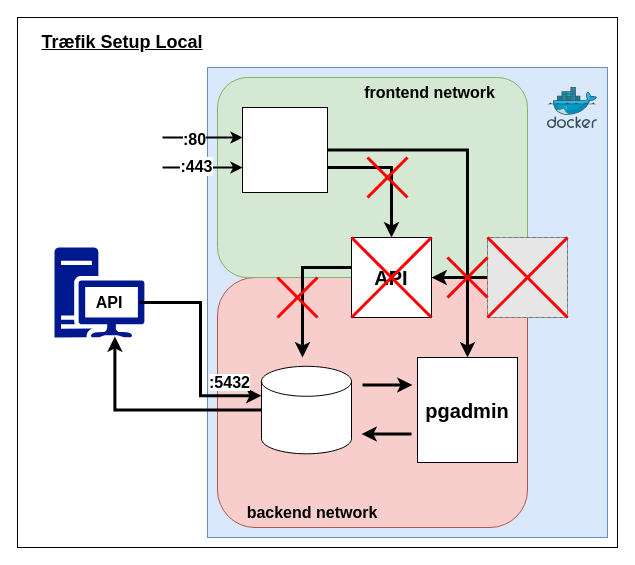
This 635x565 diagram has some shape labels left out. Grey dashed boxes stand in for pictures. Here are the shapes that lost their labels. From the top down, the box of each, then its label:
(242, 106, 328, 192): TRÆFIK
(260, 365, 352, 454): DB
